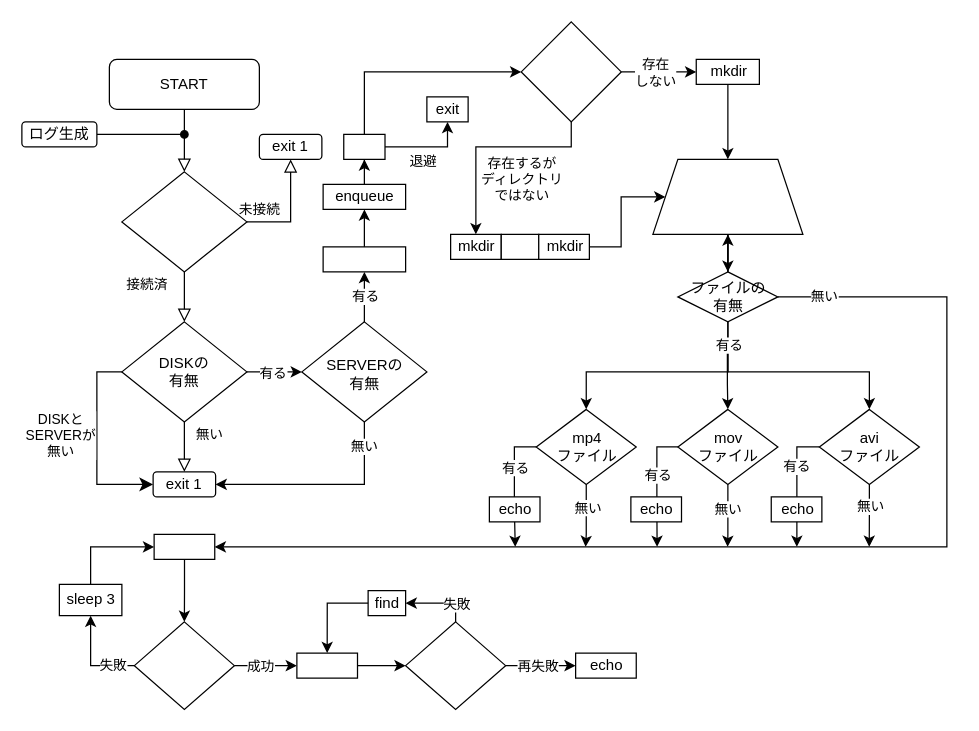
This 979x731 diagram has some shape labels left out. Each missing label, with the centre of its shape:
cd: [363,146]
date_dirの 有無: [570,71]
forループ ファイル検索: [727,196]
mv: [519,246]
rm: [327,665]
rm 成功・失敗: [455,665]
rsync: [184,546]
rsync 成功・失敗: [183,665]
sleep 0.5: [364,259]
インターネット: [184,221]
